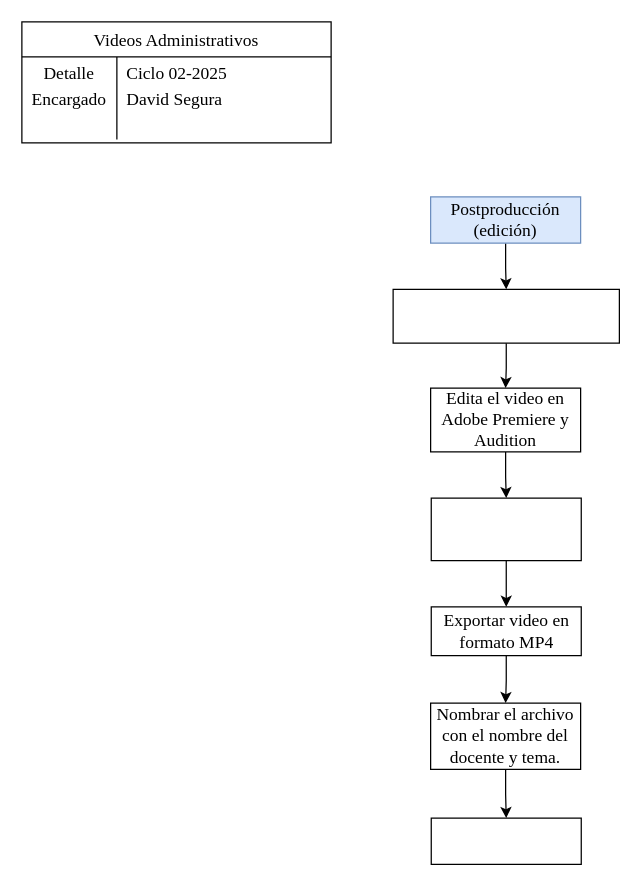
This 641x886 diagram has some shape labels left out. The shapes that lost their labels are listed below. From the top down, each one's centre as x and y in pixels, then its label:
the point at 505,315: Extraer el video desde la memoria SD a la computadora
the point at 505,529: Corregir audio, iluminación y cortes necesarios
the point at 505,840: Pasar a la fase de publicación
